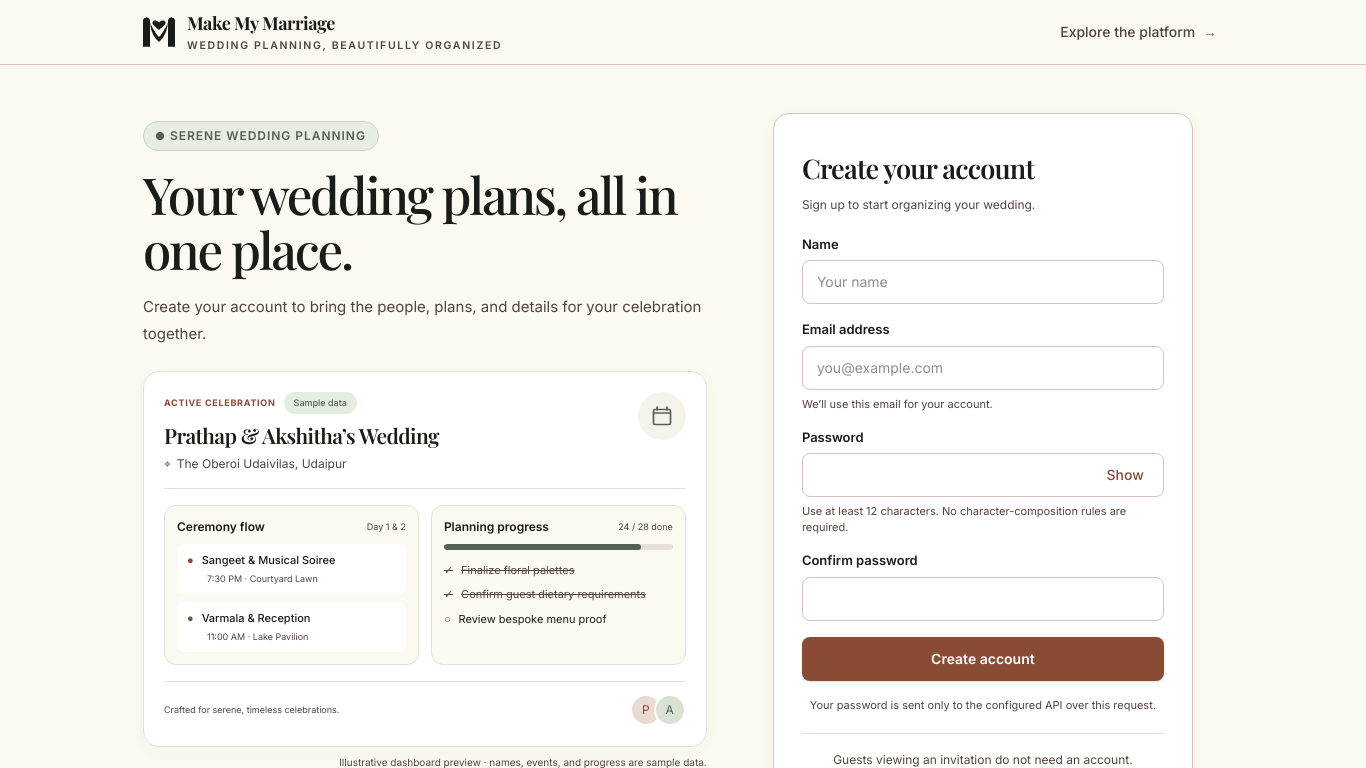
Test: SignupPage › shows field errors when required values are missing
This screenshot has width=1366, height=768.
Click the button "Create account" at (983, 658), box [802,636,1164,680]
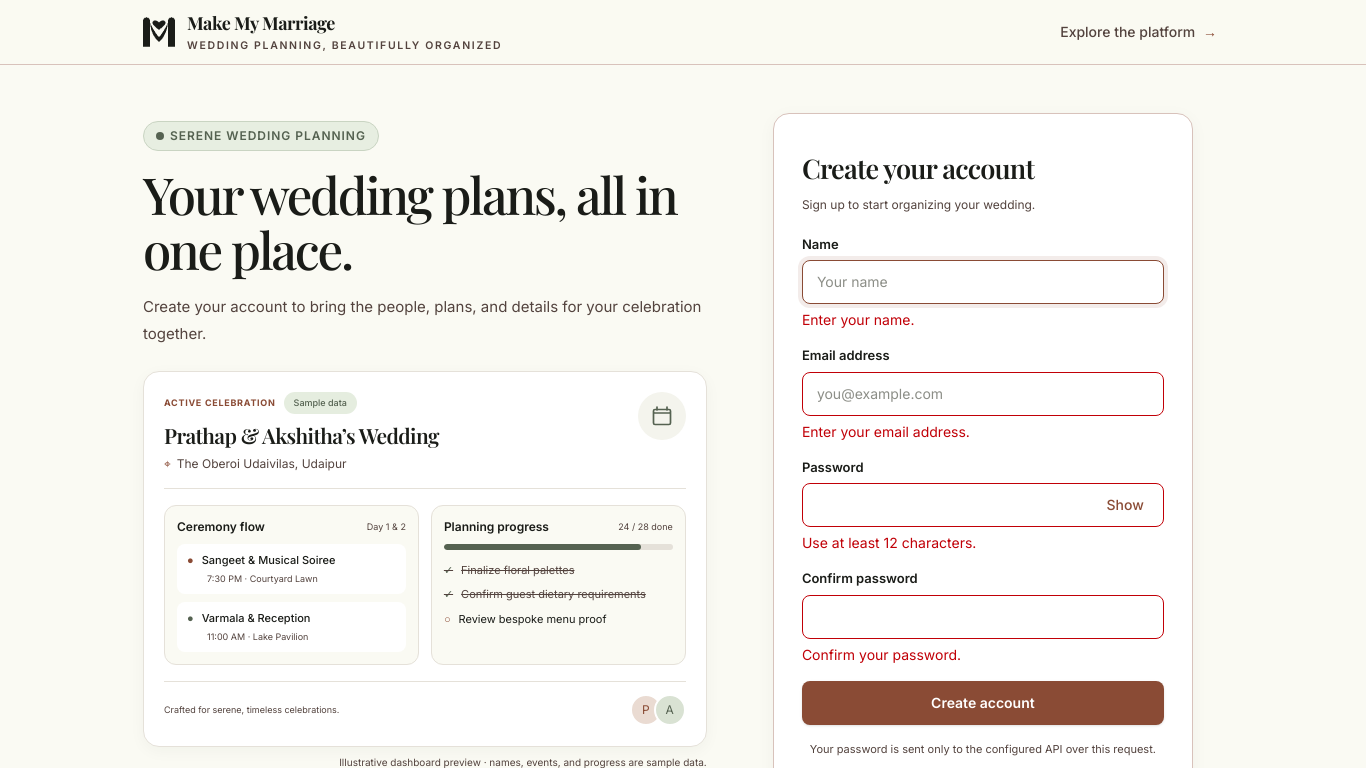
Expected: the text "Enter your name." is shown, [802,311,914,328]
Expected: the text "Enter your email address." is shown, [802,422,970,440]
Expected: the text "Confirm your password." is shown, [802,646,961,662]
